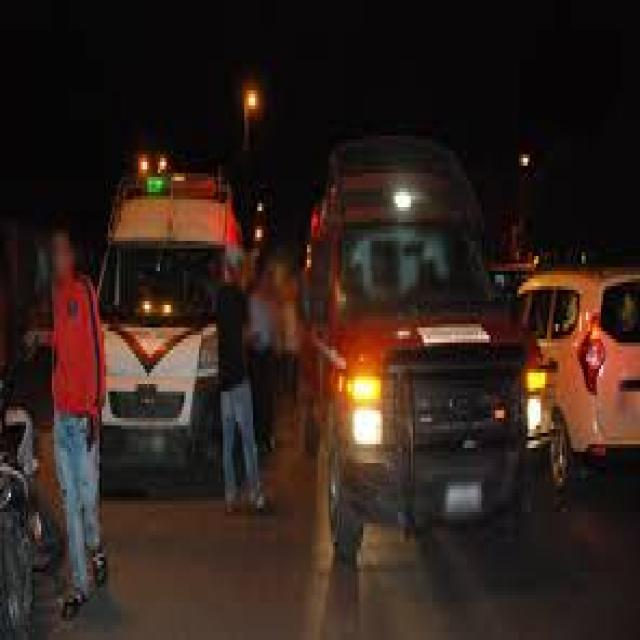ambulance: (308, 158, 528, 554)
police: (93, 165, 241, 484)
